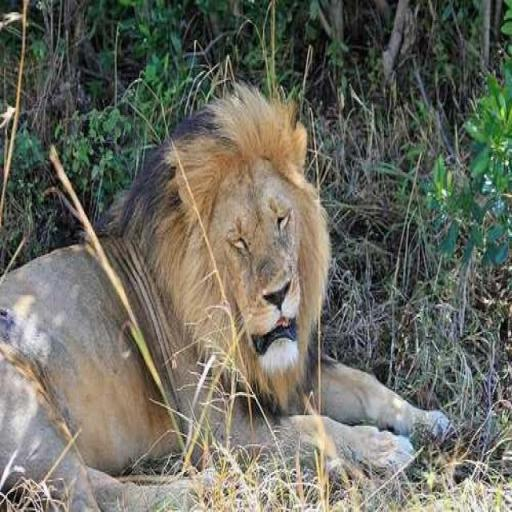Lion: (0, 80, 457, 509)
